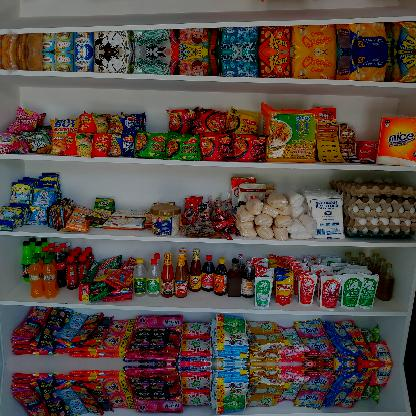Lady-s-Choice: (150, 204, 180, 236)
